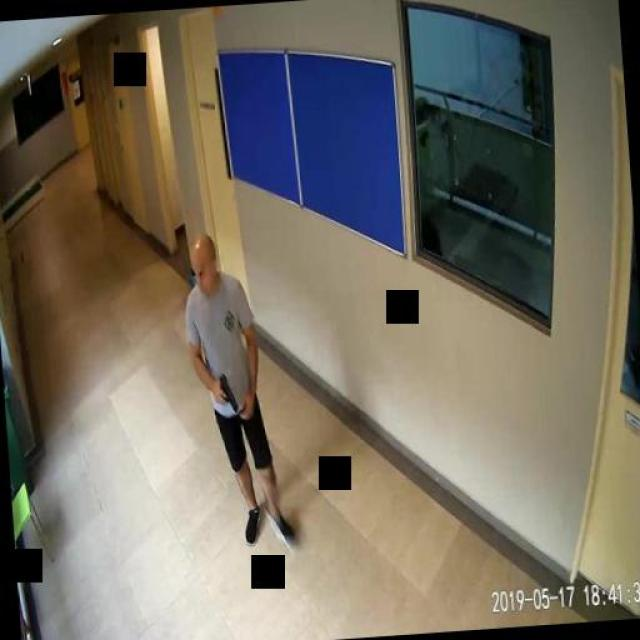gun: (216, 371, 235, 411)
